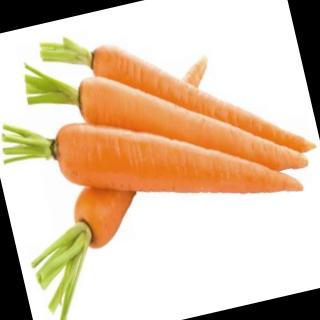Wortel: (89, 6, 317, 196), (73, 35, 310, 215), (51, 78, 305, 245)
